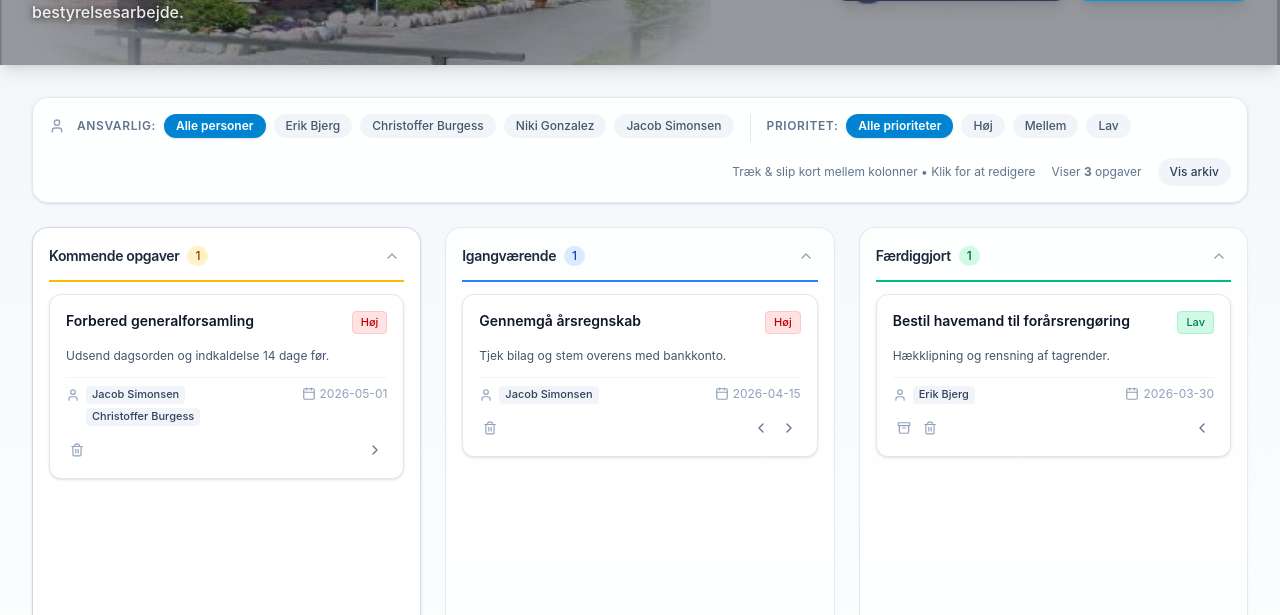
Scenario: Scrumboard Tests with Mock Data › keeps archive years collapsed by default and only keeps one year bucket expanded at a time
Click the button "Vis arkiv" at (1194, 172), box top-left (1158, 158), bottom-right (1231, 186)
(page scrolled)
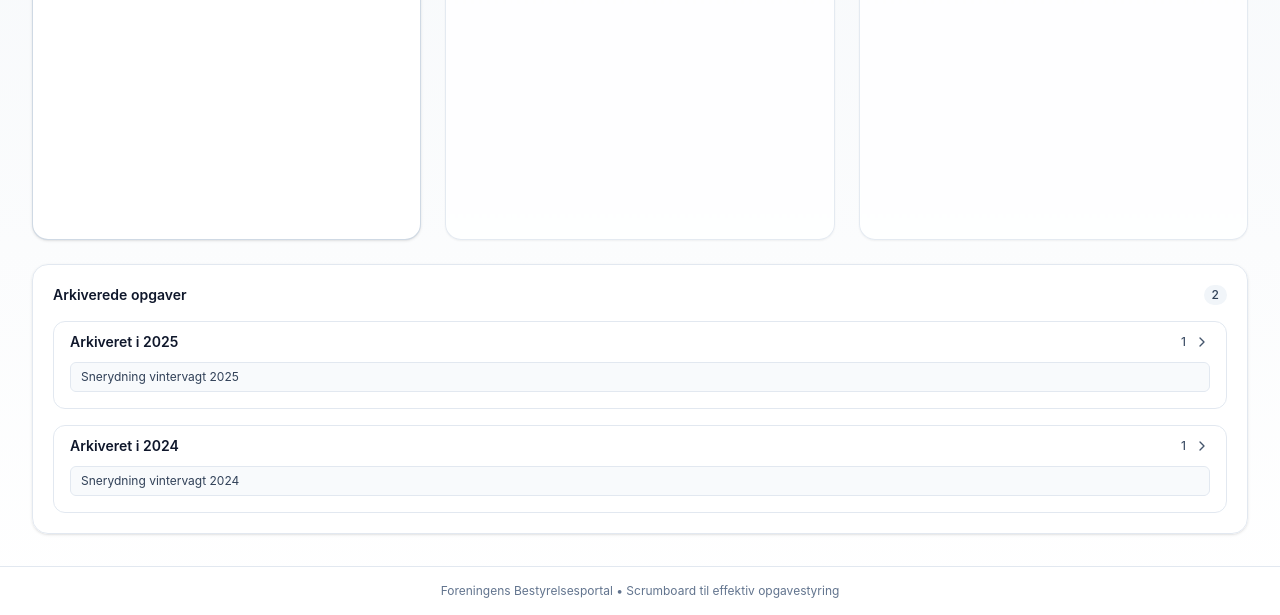
Check: the text "Arkiveret i 2025" is shown, box top-left (70, 332), bottom-right (178, 352)
Check: the text "Arkiveret i 2024" is shown, box top-left (70, 436), bottom-right (179, 456)
Check: the list item "Snerydning vintervagt 2025" is shown, box top-left (70, 362), bottom-right (1210, 392)
Click the button with aria-label "udvid arkiveret i 2025" at (124, 342), box top-left (54, 322), bottom-right (1226, 362)
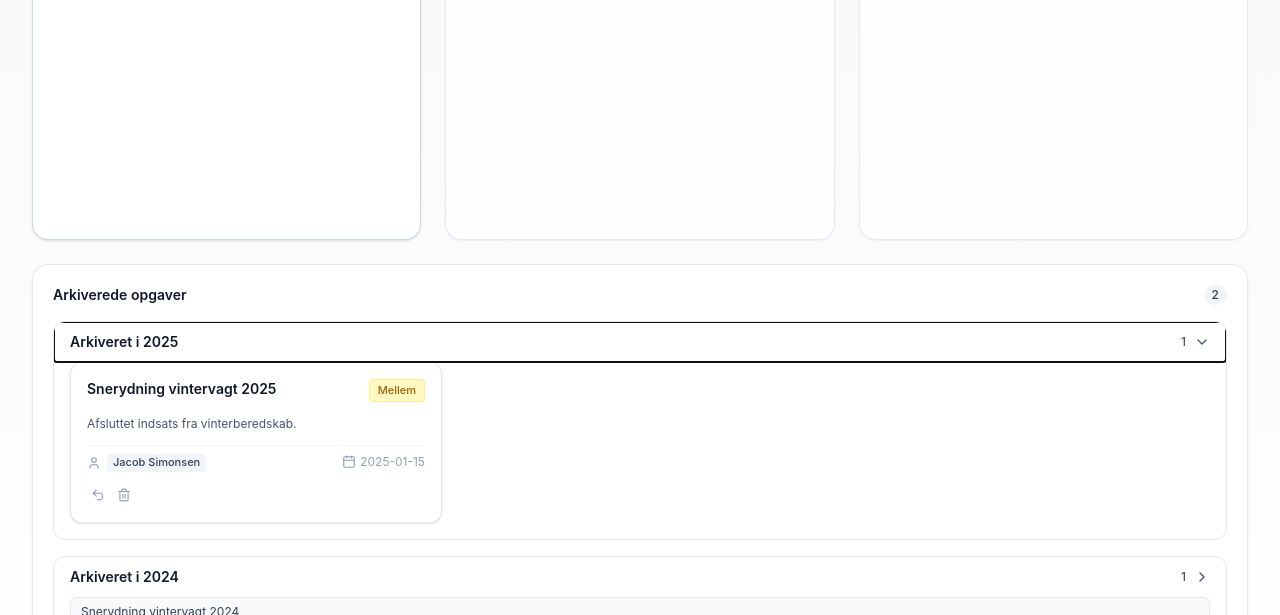
Check: the heading "Snerydning vintervagt 2025" is shown, box top-left (87, 380), bottom-right (276, 397)
Check: the button with aria-label "fold arkiveret i 2025 sammen" is shown, box top-left (54, 322), bottom-right (1226, 362)
Click the button with aria-label "udvid arkiveret i 2024" at (124, 576), box top-left (54, 557), bottom-right (1226, 597)
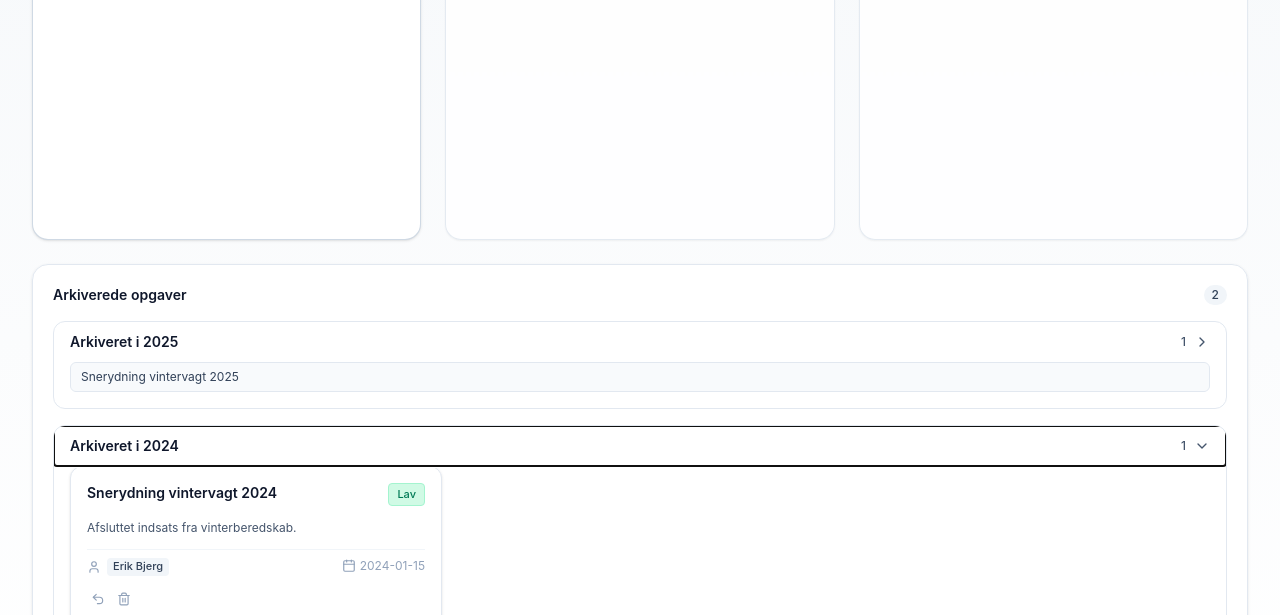
Check: the heading "Snerydning vintervagt 2024" is shown, box top-left (87, 484), bottom-right (277, 501)
Check: the button with aria-label "udvid arkiveret i 2025" is shown, box top-left (54, 322), bottom-right (1226, 362)
